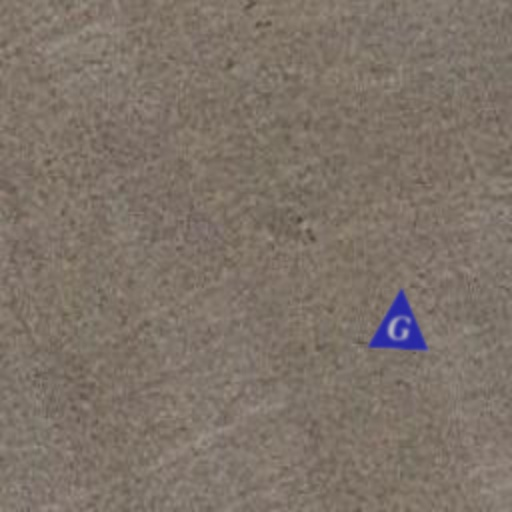triangle: (366, 284, 434, 352)
